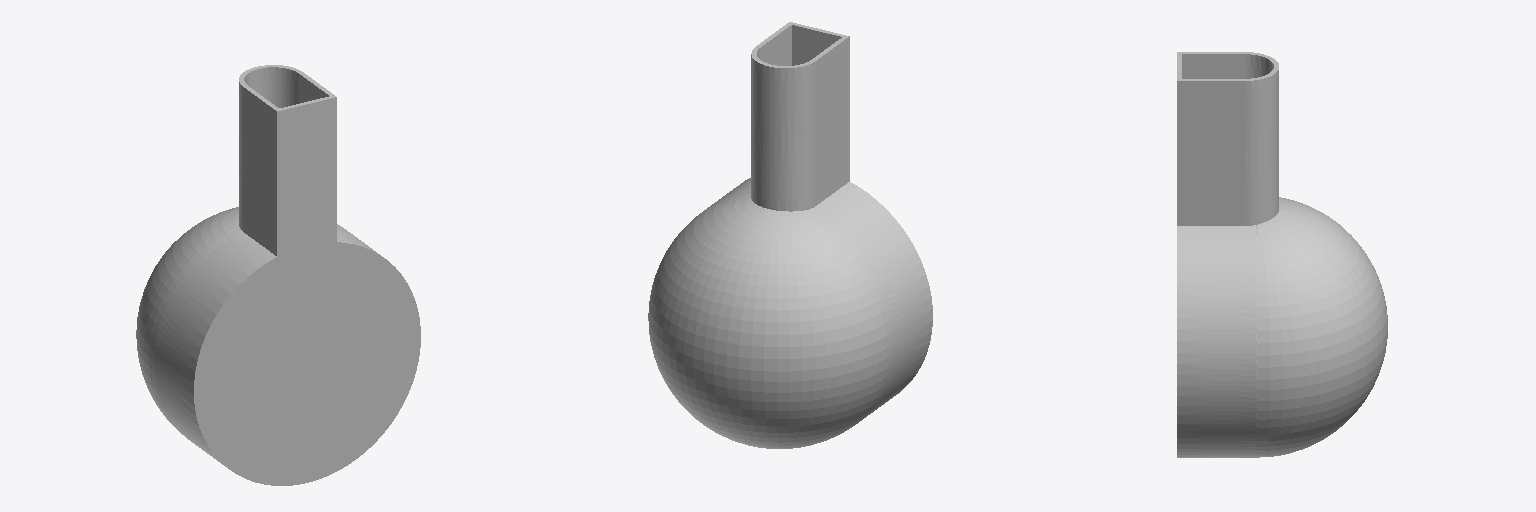
File: 220729_Philips_dome.obj
3 views of the same model, side by side, from view 1: azimuth 30°, elevation 25°; view 2: azimuth 150°, elevation 25°; view 3: azimuth 270°, elevation 25° (orthographic).
Size of the model in its own units: 986 by 1570 by 813.